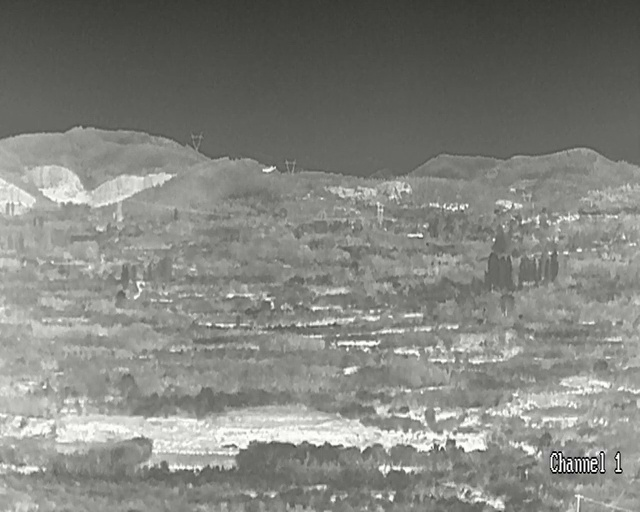uav: (261, 165, 275, 171)
